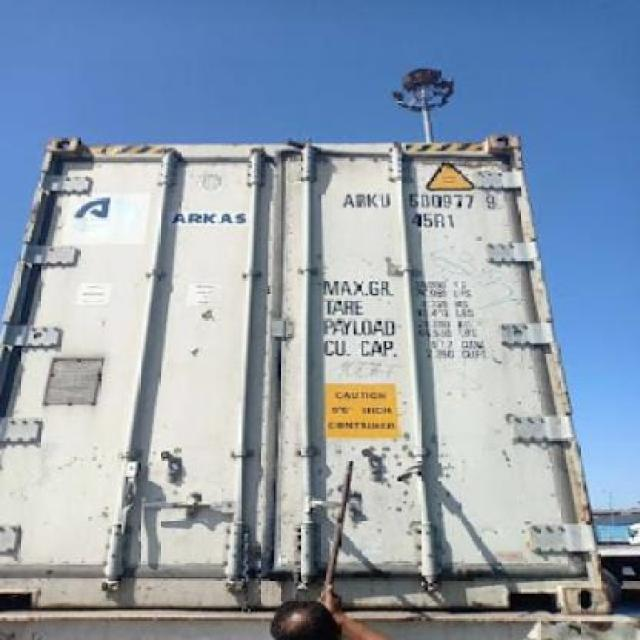ISO: (412, 210, 454, 230)
container_number: (337, 192, 502, 212)
